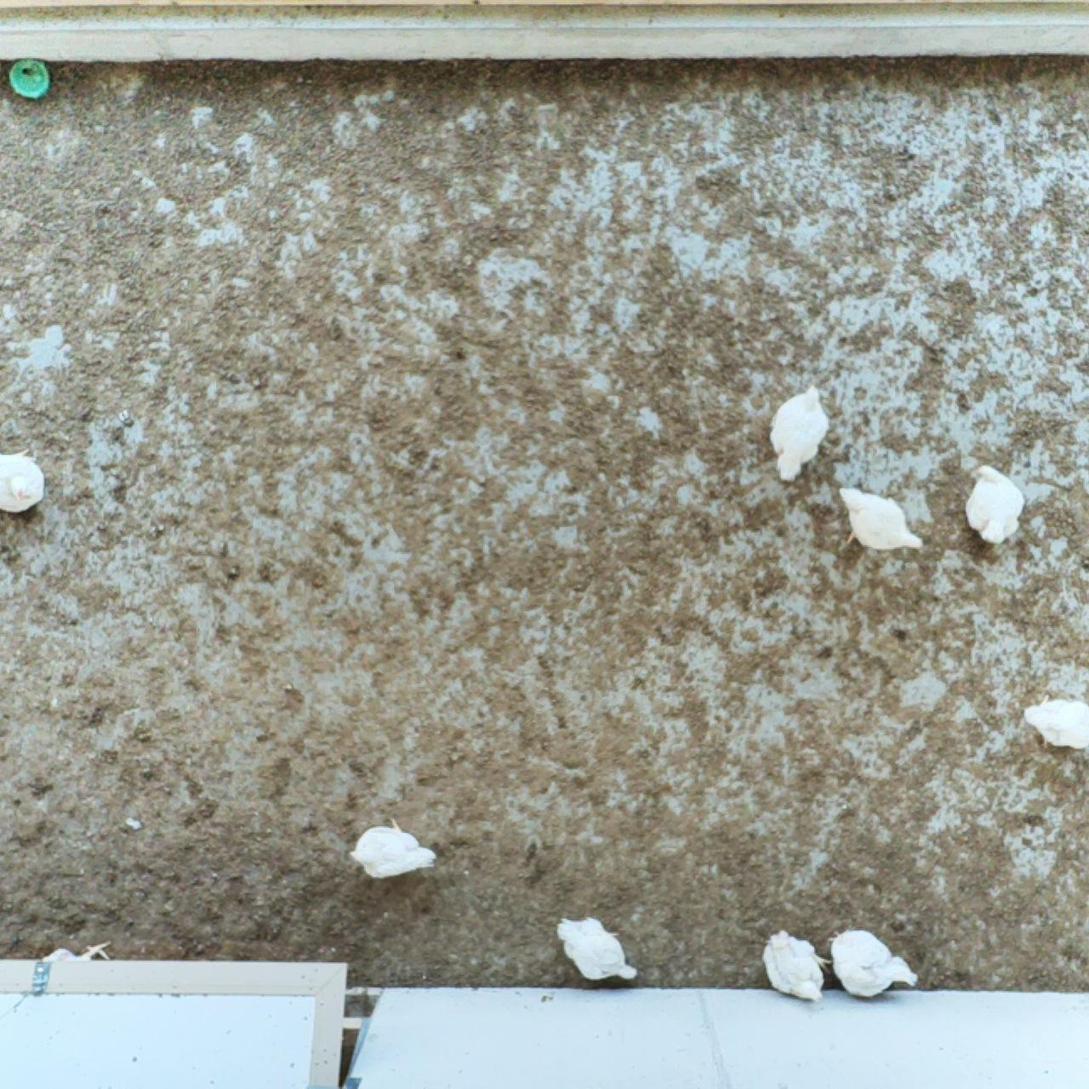chicken: (830, 483, 929, 562), (765, 376, 834, 488), (548, 910, 644, 989), (825, 925, 922, 1002), (956, 457, 1031, 551), (753, 922, 834, 1006), (345, 812, 442, 882), (1018, 688, 1089, 754), (0, 443, 51, 527)
